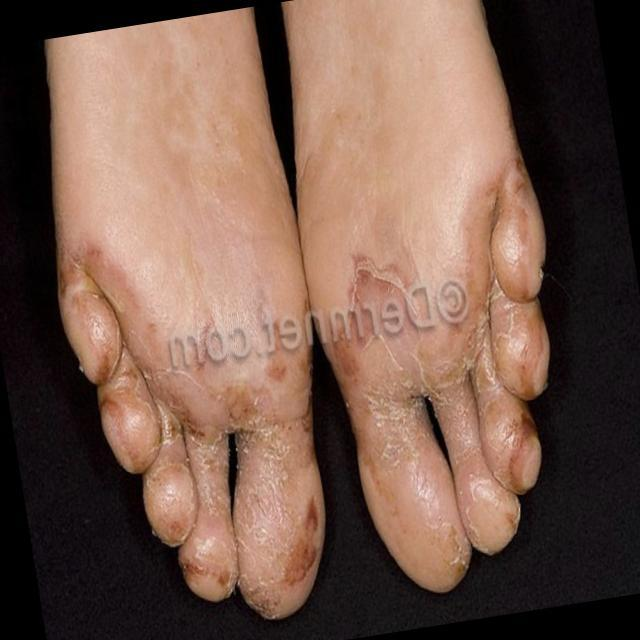Eczema: (315, 259, 467, 600), (235, 374, 333, 616), (422, 332, 504, 559), (454, 320, 538, 466), (98, 303, 164, 471), (180, 418, 237, 602), (60, 230, 120, 380), (472, 154, 548, 270), (483, 262, 556, 376), (148, 410, 199, 560)
